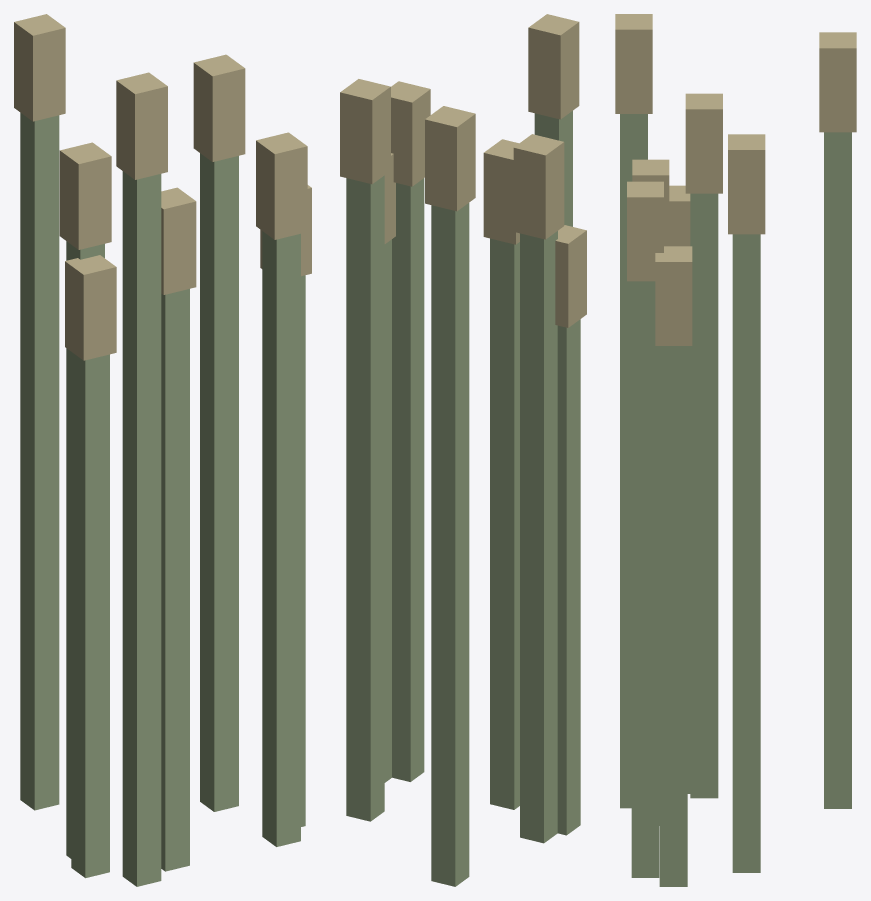
Rendered from prop_reeds.glb.
The picture shows the model from 3 angles, left to right: view 1: azimuth 30°, elevation 25°; view 2: azimuth 150°, elevation 25°; view 3: azimuth 270°, elevation 25°; orthographic projection.
Visible parts, largest first — view 1: Prop_Reeds; view 2: Prop_Reeds; view 3: Prop_Reeds.
Boxes of the visible parts, x1,y1,x2,y2 form: Prop_Reeds: [14, 14, 311, 886]; Prop_Reeds: [340, 14, 586, 886]; Prop_Reeds: [615, 14, 856, 886].
Size of the model in its own units: 0.5528 by 1.85 by 0.5188.
